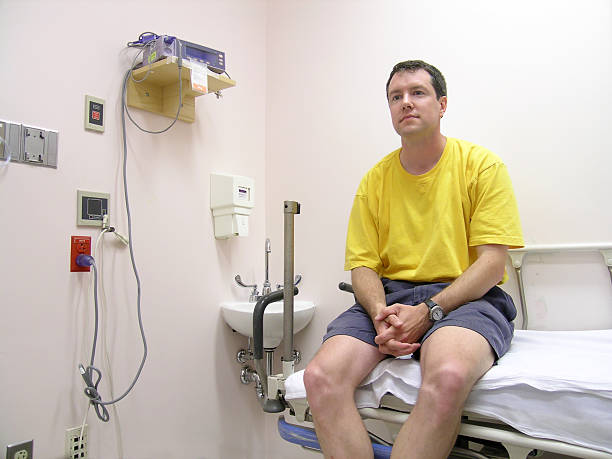bedrail: (355, 404, 612, 459), (506, 243, 612, 329)
faucet: (233, 273, 262, 303)
hospital_bed: (277, 239, 612, 459)
patient: (302, 59, 515, 459)
sink: (217, 299, 318, 353)
